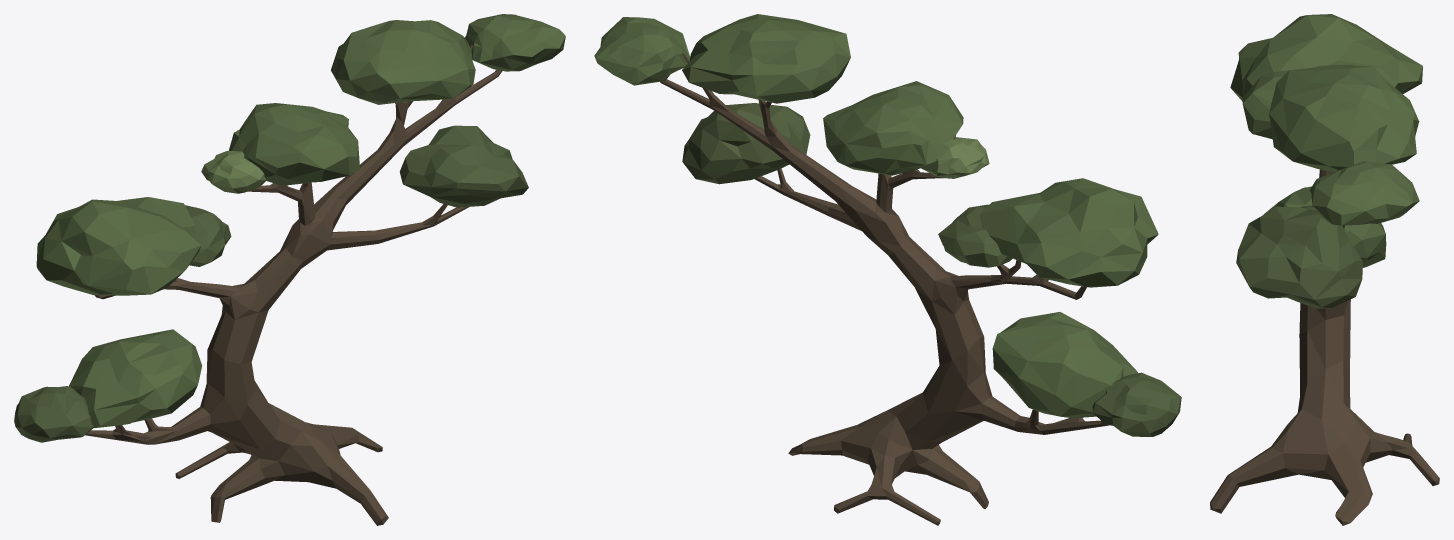
The model's file is SM_Envr_Nature_Tree_Large_05.fbx.
3 views of the same model, side by side, from view 1: azimuth 30°, elevation 25°; view 2: azimuth 150°, elevation 25°; view 3: azimuth 270°, elevation 25° (orthographic). The views are drawn at different scales.
Parts seen in each view (by area): view 1: SM_Envr_Nature_Tree_Large_05; view 2: SM_Envr_Nature_Tree_Large_05; view 3: SM_Envr_Nature_Tree_Large_05.
Part boxes in pixels (bbox=[...]): SM_Envr_Nature_Tree_Large_05: bbox=[14, 14, 565, 525]; SM_Envr_Nature_Tree_Large_05: bbox=[594, 14, 1181, 525]; SM_Envr_Nature_Tree_Large_05: bbox=[1210, 14, 1439, 525].
Size of the model in its own units: 891 by 674 by 294.
